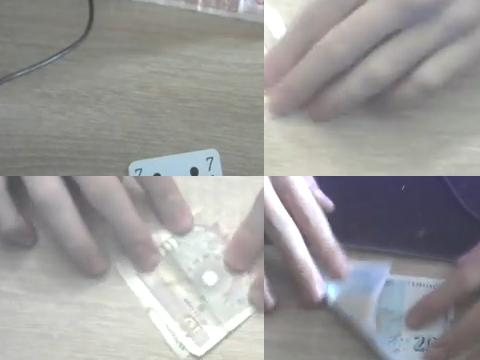10leva: (119, 226, 254, 360)
20leva: (327, 258, 448, 360)
